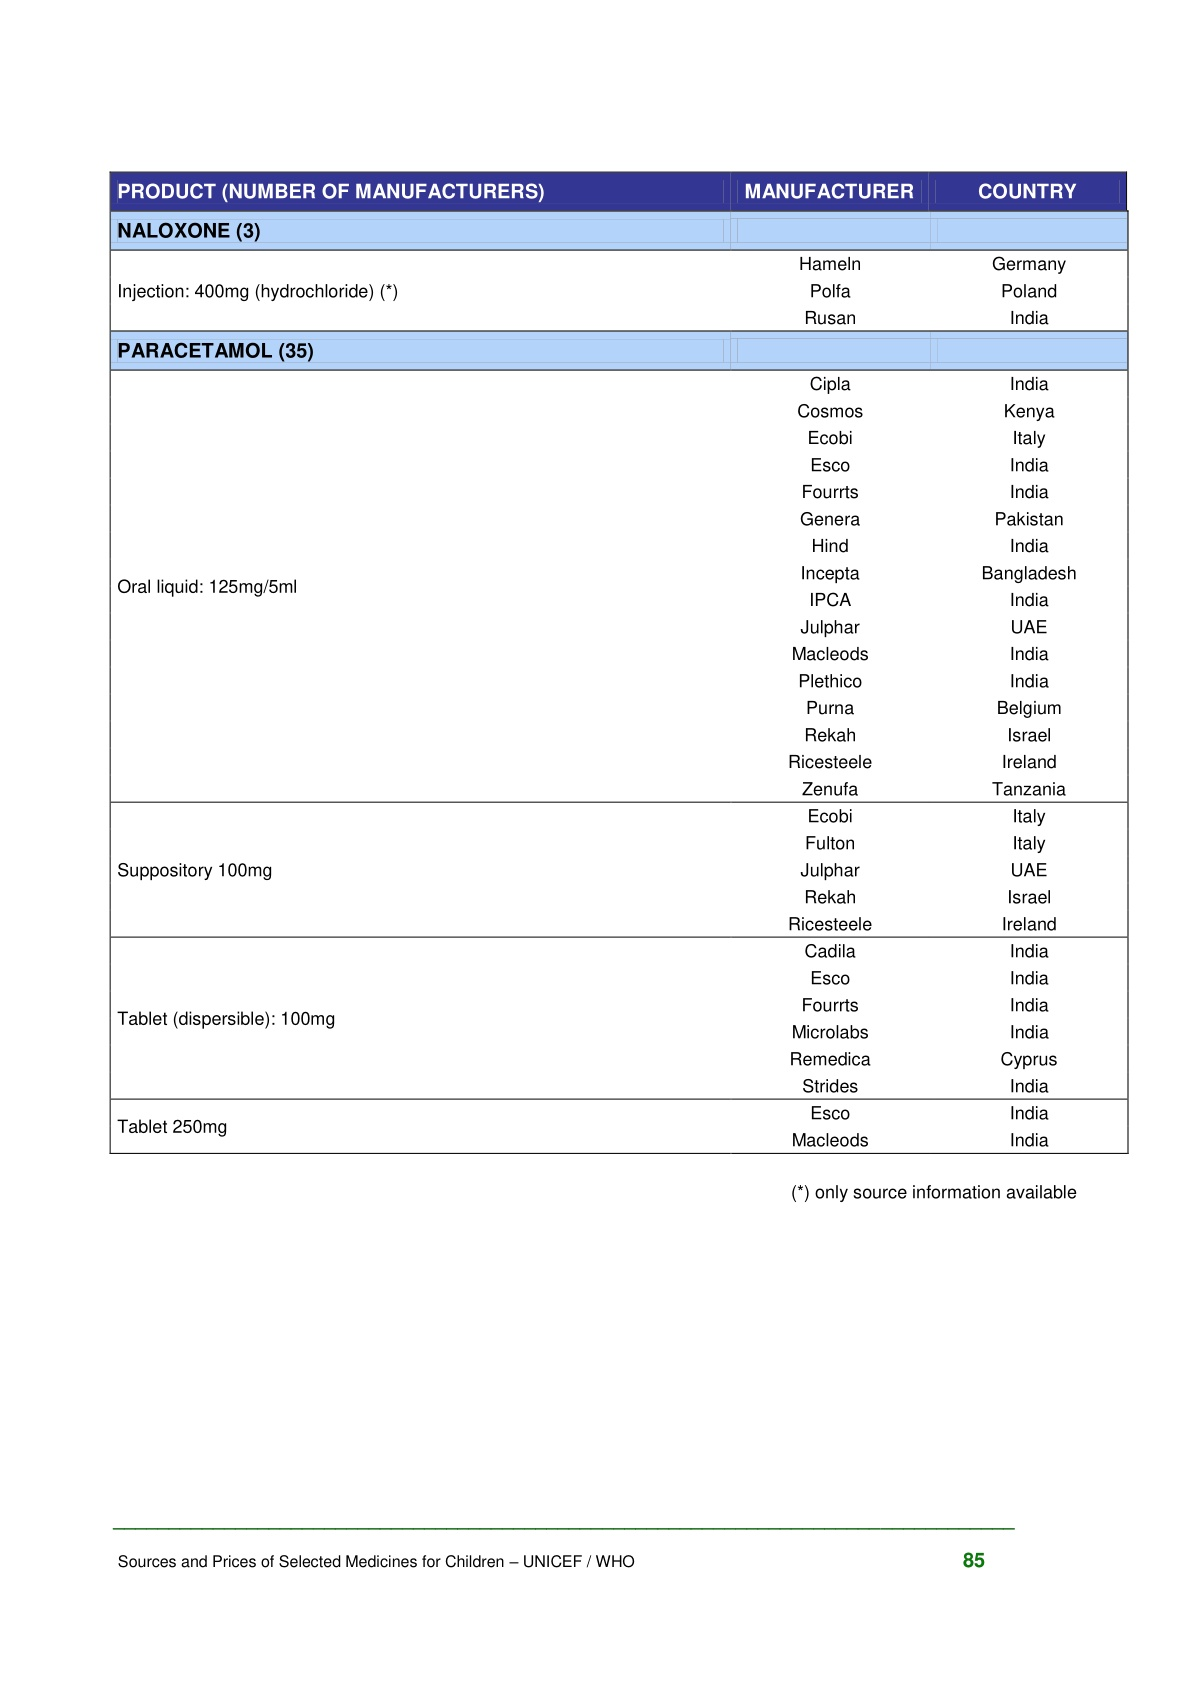partial_lined_merged_cells: (107, 169, 1130, 1154)
